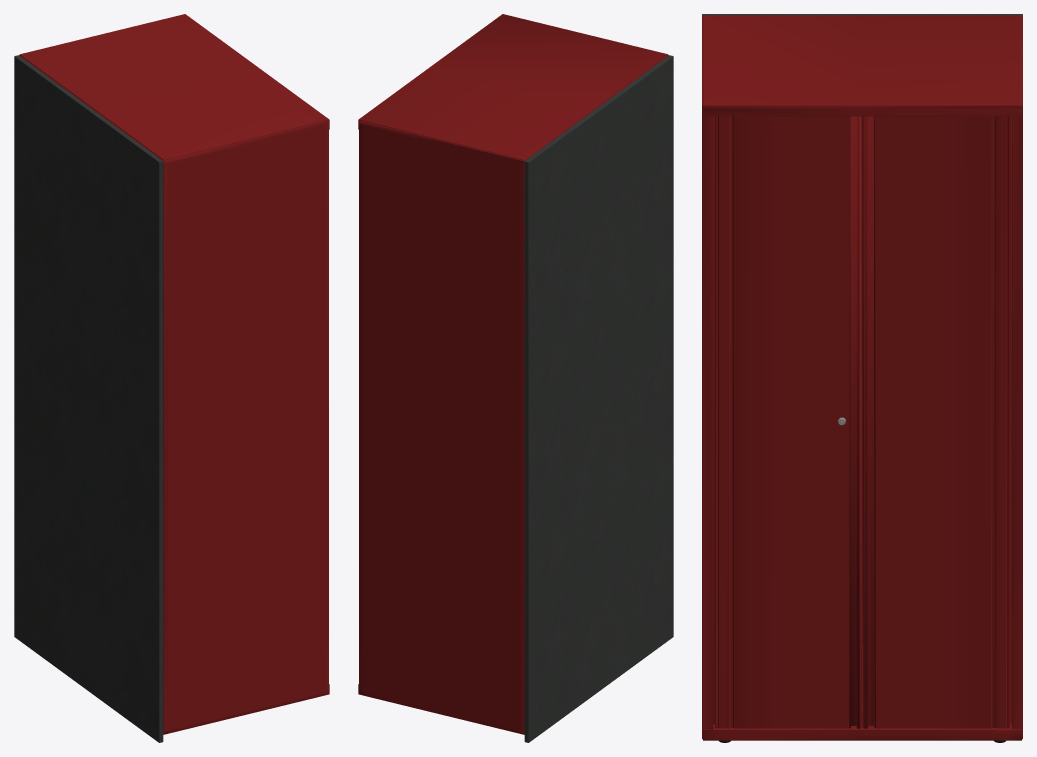
The model's file is workbench_modular_table_b01.glb.
3 renders of one model, left to right at view 1: azimuth 30°, elevation 25°; view 2: azimuth 150°, elevation 25°; view 3: azimuth 270°, elevation 25°, orthographic. The views are drawn at different scales.
Visible parts, largest first — view 1: closet_01_mesh_00; view 2: closet_01_mesh_00; view 3: door_01_mesh_00, door_02_mesh_00, closet_01_mesh_00.
Part boxes in pixels (x1,y1,x2,y2): closet_01_mesh_00: [14, 14, 329, 742]; closet_01_mesh_00: [358, 14, 673, 742]; door_01_mesh_00: [715, 116, 862, 728]; door_02_mesh_00: [862, 116, 1009, 728]; closet_01_mesh_00: [702, 14, 1022, 742].
Size of the model in its own units: 0.6222 by 2.02 by 0.9146.
4 materials, 2 textured.
